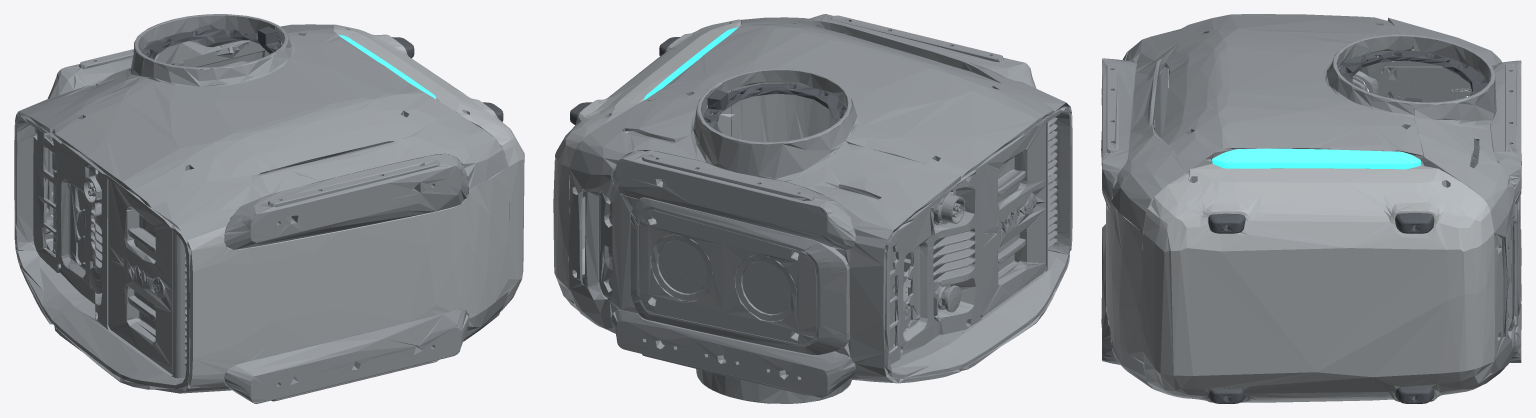
3 views of the same model, side by side, from view 1: azimuth 30°, elevation 25°; view 2: azimuth 150°, elevation 25°; view 3: azimuth 270°, elevation 25° (orthographic). The views are drawn at different scales.
Visible parts, largest first — view 1: body_base; view 2: body_base; view 3: body_base.
Boxes of the visible parts, <box> form: body_base: <box>14,14,524,403</box>; body_base: <box>553,14,1072,403</box>; body_base: <box>1101,14,1521,403</box>.
Bounding box in the file's own units: 0.306 × 0.2183 × 0.2799.
